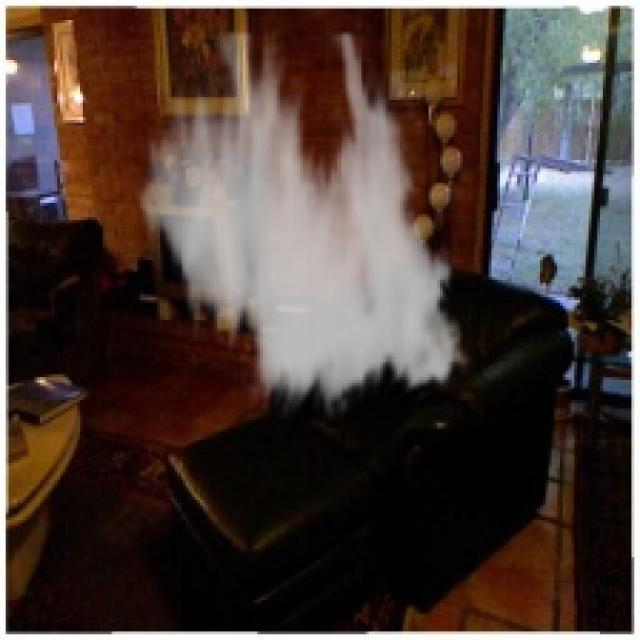smoke: (129, 31, 477, 420)
